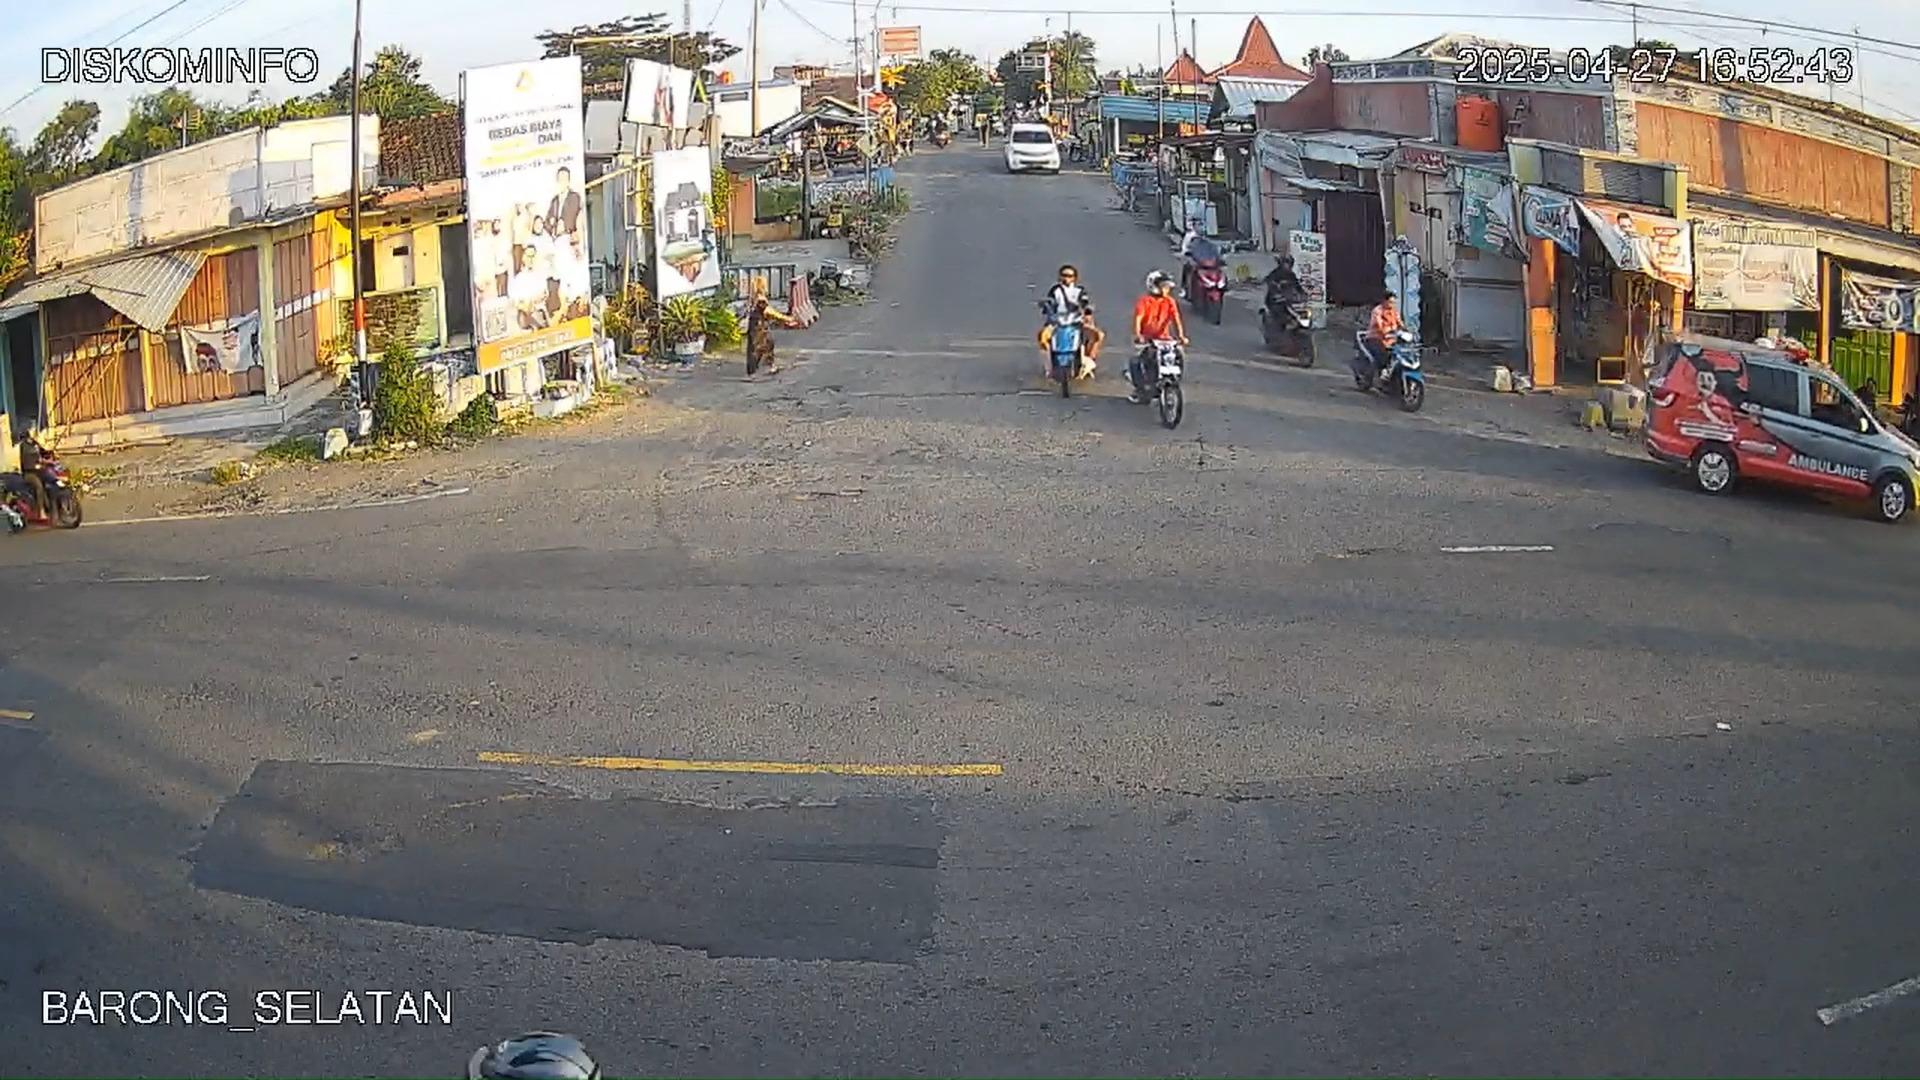Motor: (1129, 272, 1188, 404), (1348, 323, 1425, 411), (3, 446, 82, 531), (1029, 294, 1092, 398)
mobil: (1634, 335, 1913, 521)
